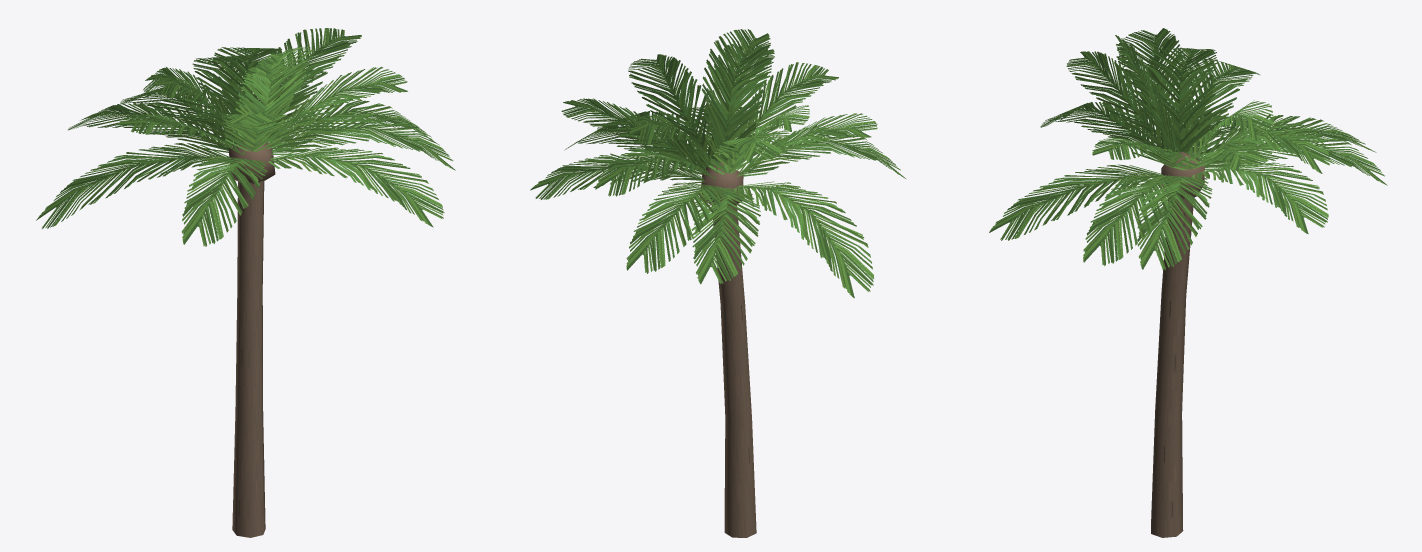
Rendered from PHOENIX_1.glb.
The picture shows the model from 3 angles, left to right: view 1: azimuth 30°, elevation 25°; view 2: azimuth 150°, elevation 25°; view 3: azimuth 270°, elevation 25°; orthographic projection. The views are drawn at different scales.
Visible parts, largest first — view 1: Arv_PHOENIX_lod1; view 2: Arv_PHOENIX_lod1; view 3: Arv_PHOENIX_lod1.
Part boxes in pixels (x1,y1,x2,y2): Arv_PHOENIX_lod1: (36, 28, 455, 537); Arv_PHOENIX_lod1: (530, 29, 905, 537); Arv_PHOENIX_lod1: (989, 28, 1387, 537).
Size of the model in its own units: 8.05 by 9.7 by 7.96.
2 materials, 2 textured.
